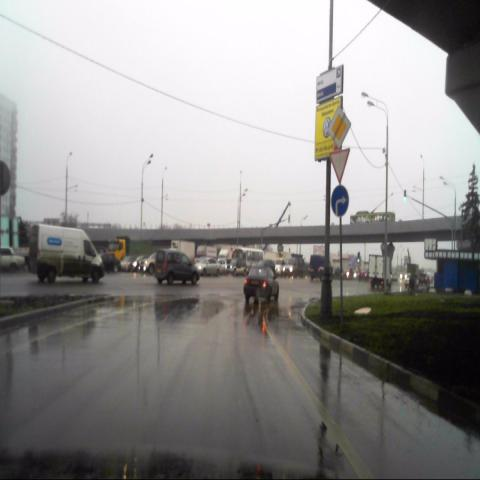4_1_2: (332, 185, 348, 216)
